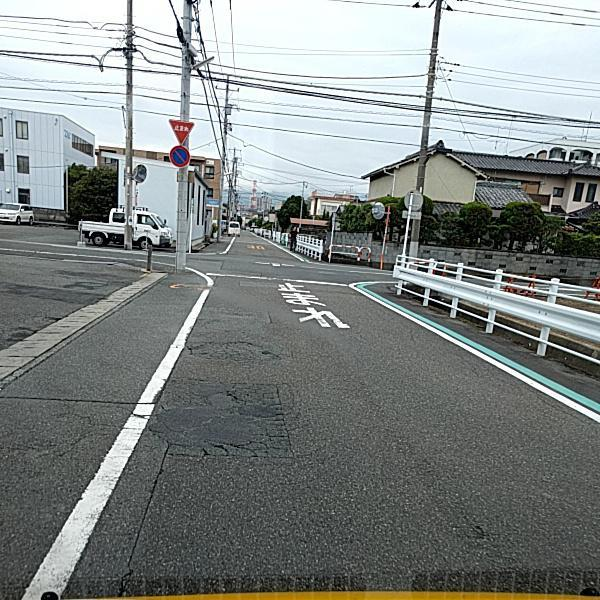D20: (155, 382, 290, 465), (190, 336, 282, 373)
